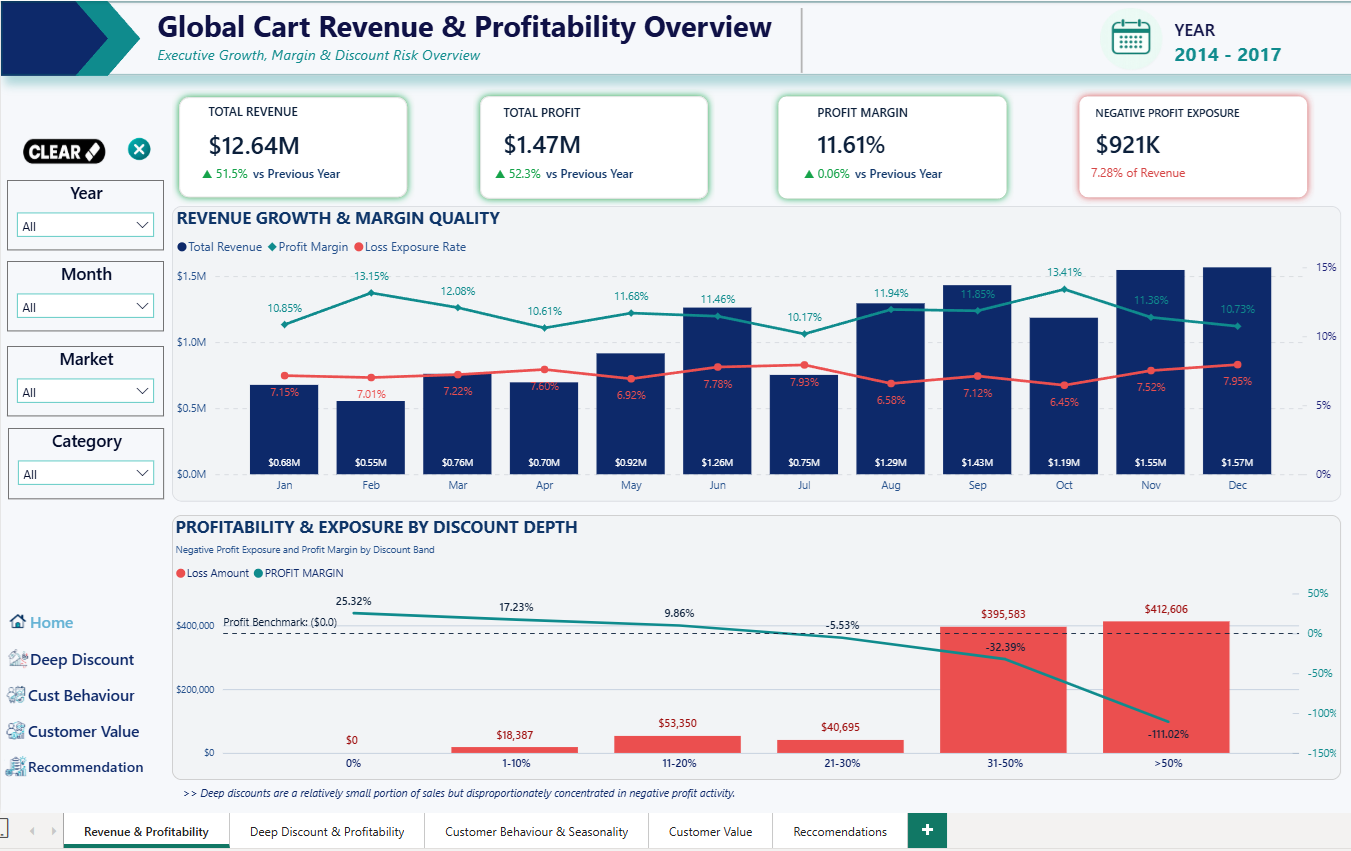

Layout of this report page (visuals, bound fields, positions):
{"tool":"powerbi","page":{"name":"Revenue & Profitability","canvas":[1500,900],"ordinal":0},"visuals":[{"type":"shape","box":[845.5,7.8,83.4,71.9],"z":1000},{"type":"slicer","title":"Year","fields":{"Values":["DimDate.Year"]},"box":[6.9,198.7,173.8,78],"z":1000,"group":"g1"},{"type":"shape","box":[189.3,226.8,1295.9,327.7],"z":2000},{"type":"slicer","title":"Month","fields":{"Values":["DimDate.Month"]},"box":[6.9,287.5,173.8,78],"z":2000,"group":"g1"},{"type":"shape","box":[189.3,98.3,268.7,127],"z":3000},{"type":"slicer","title":"Market","fields":{"Values":["DimMarketRegion.Market"]},"box":[6.9,381.7,173.8,78],"z":3000,"group":"g1"},{"type":"cardVisual","fields":{"Data":["_Measures.Total Revenue"]},"box":[212.8,99.4,155.4,91.6],"z":4000},{"type":"slicer","title":"Category","fields":{"Values":["DimProduct.Category"]},"box":[7.9,472.5,172.7,79.1],"z":4000,"group":"g1"},{"type":"image","title":"Clear button","box":[125.6,142.7,56.5,42.3],"z":5000,"group":"g1"},{"type":"shape","box":[222.9,166,56.6,48.1],"z":5000},{"type":"image","box":[23,147.3,94.4,41.4],"z":6000,"group":"g1"},{"type":"shape","box":[279.3,172.9,113.3,34.2],"z":6000},{"type":"shape","box":[523.5,97,268.2,129.5],"z":7000},{"type":"cardVisual","fields":{"Data":["_Measures.Total Profit"]},"box":[539.4,99.8,146.1,91.6],"z":8000},{"type":"shape","box":[547.2,166,56.6,48.1],"z":9000},{"type":"shape","box":[603.6,172.9,113.3,34.2],"z":10000},{"type":"shape","box":[853.3,97,269.1,129.5],"z":11000},{"type":"cardVisual","fields":{"Data":["_Measures.Profit Margin"]},"box":[887.3,99.8,158.2,91.6],"z":12000},{"type":"shape","box":[890.2,166,56.6,48.1],"z":13000},{"type":"shape","box":[946.7,172.9,113.3,34.2],"z":14000},{"type":"shape","box":[189.5,569.7,1295.7,293.7],"z":15000},{"type":"lineClusteredColumnComboChart","title":"REVENUE GROWTH & MARGIN QUALITY","fields":{"Category":["DimDate.Year","DimDate.Quarter","DimDate.Month"],"Y":["_Measures.TOTAL REVENUE"],"Y2":["_Measures.PROFIT MARGIN","_Measures.Loss Exposure Rate"]},"box":[189.3,226.8,1295.9,327.7],"z":16000},{"type":"lineClusteredColumnComboChart","title":"PROFITABILITY & EXPOSURE BY DISCOUNT DEPTH","fields":{"Category":["FactSales.Discount Band"],"Y":["Sum(FactSales.Loss Amount)"],"Y2":["_Measures.PROFIT MARGIN"]},"box":[188.9,570,1295.7,293.7],"z":17000},{"type":"textbox","box":[168.5,0,737.1,75.4],"z":18000},{"type":"shape","box":[1187.1,97.7,268.7,128.1],"z":19000},{"type":"cardVisual","fields":{"Data":["_Measures.Total Loss Amount"]},"box":[1195.9,99.8,229.4,92],"z":20000},{"type":"shape","box":[1208.1,166.3,134.1,47.7],"z":21000},{"type":"shape","box":[0,0,127.4,83.2],"z":26000},{"type":"shape","box":[0,0,1500,82.8],"z":27000},{"type":"shape","box":[82.1,0,72.6,83.2],"z":28000},{"type":"image","box":[1208.4,0.5,91.6,90.5],"z":29000},{"type":"textbox","box":[1295.7,13.1,138.9,64.2],"z":30000},{"type":"textbox","box":[196.2,863.4,686.1,36.6],"z":31000},{"type":"actionButton","box":[2.2,667.8,168.9,40],"z":34000},{"type":"actionButton","box":[2.2,707.8,166.7,40],"z":35000},{"type":"actionButton","box":[0,747.8,168.9,40],"z":36000},{"type":"actionButton","box":[0,787.8,168.9,40],"z":37000},{"type":"actionButton","box":[0,827.8,188.9,40],"z":38000},{"type":"group","id":"g1","title":"Group 1","box":[6.9,142.7,175,422.5],"z":39000}]}

Visuals, with their boxes on the page's 1500x900 design canvas (x1, y1, x2, y2). These are canvas units, not pixel positions in the 1351x851 screenshot, which may show the page scaled, cropped or inside an application window:
shape: 846:8:929:80
"Year" slicer: 7:199:181:277
shape: 189:227:1485:554
"Month" slicer: 7:288:181:366
shape: 189:98:458:225
"Market" slicer: 7:382:181:460
cardVisual - _Measures.Total Revenue: 213:99:368:191
"Category" slicer: 8:472:181:552
"Clear button" image: 126:143:182:185
shape: 223:166:280:214
image: 23:147:117:189
shape: 279:173:393:207
shape: 524:97:792:226
cardVisual - _Measures.Total Profit: 539:100:686:191
shape: 547:166:604:214
shape: 604:173:717:207
shape: 853:97:1122:226
cardVisual - _Measures.Profit Margin: 887:100:1046:191
shape: 890:166:947:214
shape: 947:173:1060:207
shape: 190:570:1485:863
"REVENUE GROWTH & MARGIN QUALITY" lineClusteredColumnComboChart: 189:227:1485:554
"PROFITABILITY & EXPOSURE BY DISCOUNT DEPTH" lineClusteredColumnComboChart: 189:570:1485:864
textbox: 168:0:906:75
shape: 1187:98:1456:226
cardVisual - _Measures.Total Loss Amount: 1196:100:1425:192
shape: 1208:166:1342:214
shape: 0:0:127:83
shape: 0:0:1500:83
shape: 82:0:155:83
image: 1208:0:1300:91
textbox: 1296:13:1435:77
textbox: 196:863:882:900
actionButton: 2:668:171:708
actionButton: 2:708:169:748
actionButton: 0:748:169:788
actionButton: 0:788:169:828
actionButton: 0:828:189:868
"Group 1" group: 7:143:182:565
